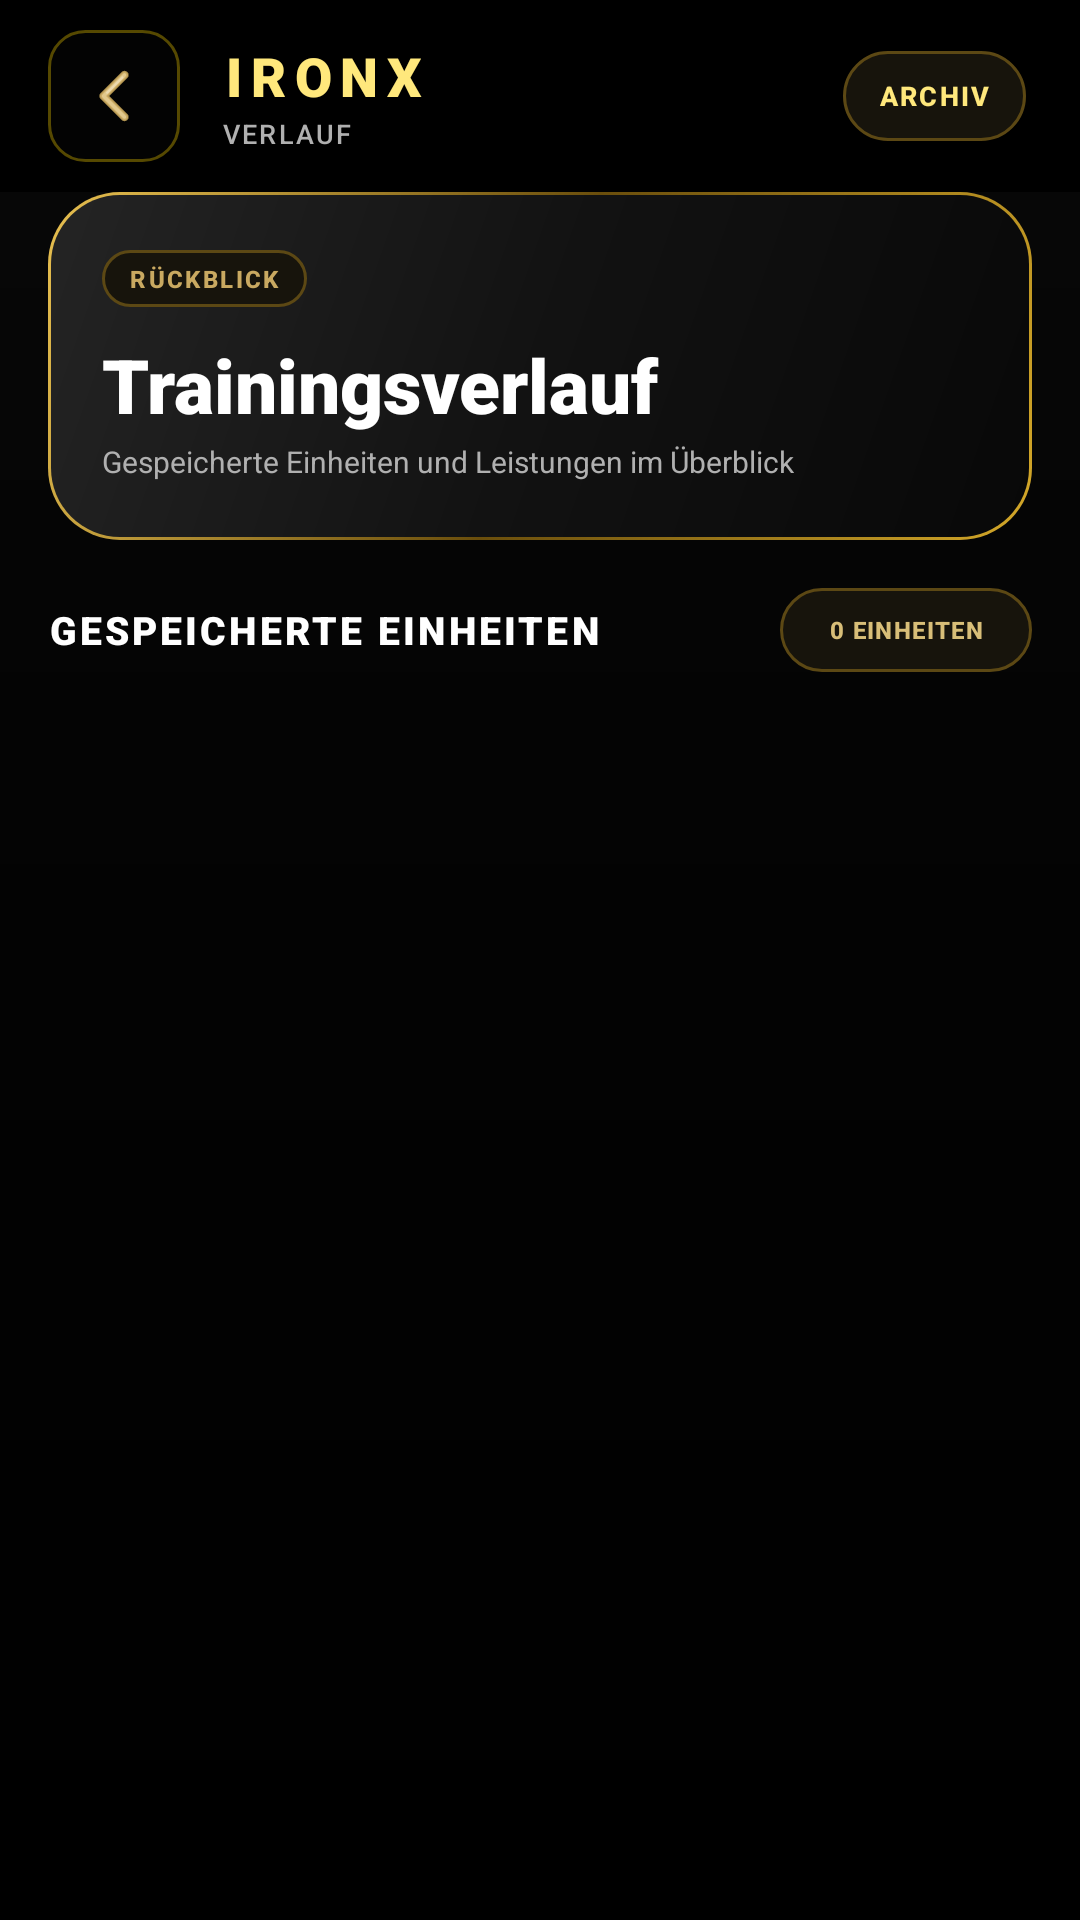

Where icons sit on this 1080×1920 app screen, as (x1, y1, x2, y2):
Zurück: (48, 30, 180, 162)
